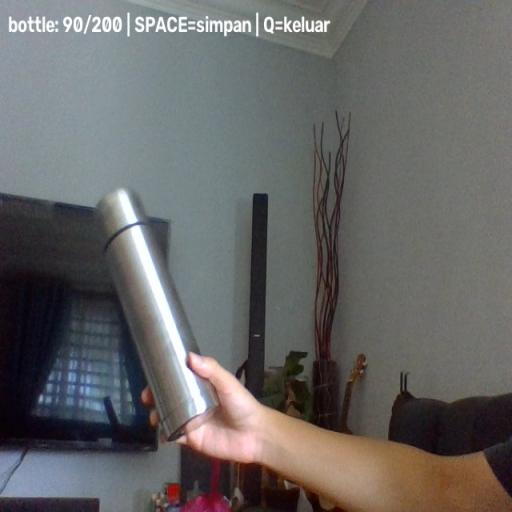Bottle: (96, 188, 219, 440)
